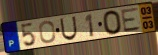1: (83, 13, 95, 39)
5: (20, 22, 37, 48)
E: (120, 6, 143, 34)
O: (102, 10, 124, 36), (38, 19, 57, 44)
U: (59, 15, 79, 41)
